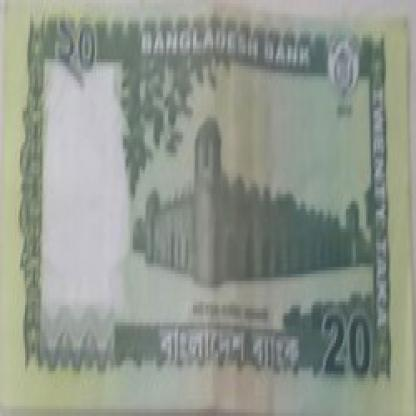Twenty: (313, 298, 378, 395), (45, 10, 116, 97)
